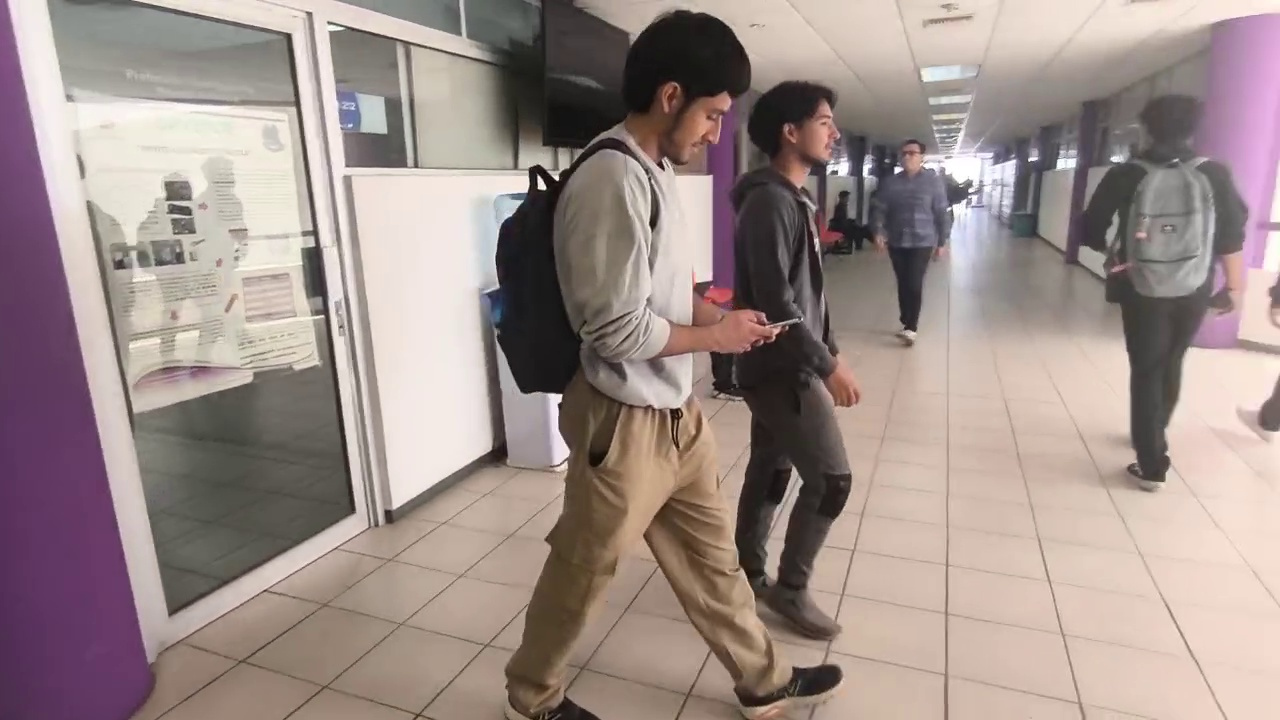mixto2: (756, 306, 806, 335)
